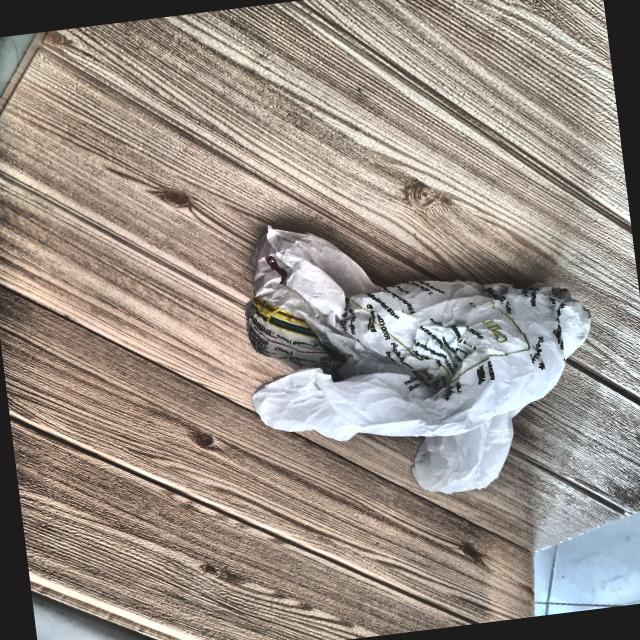plastic bag: (186, 180, 640, 543)
